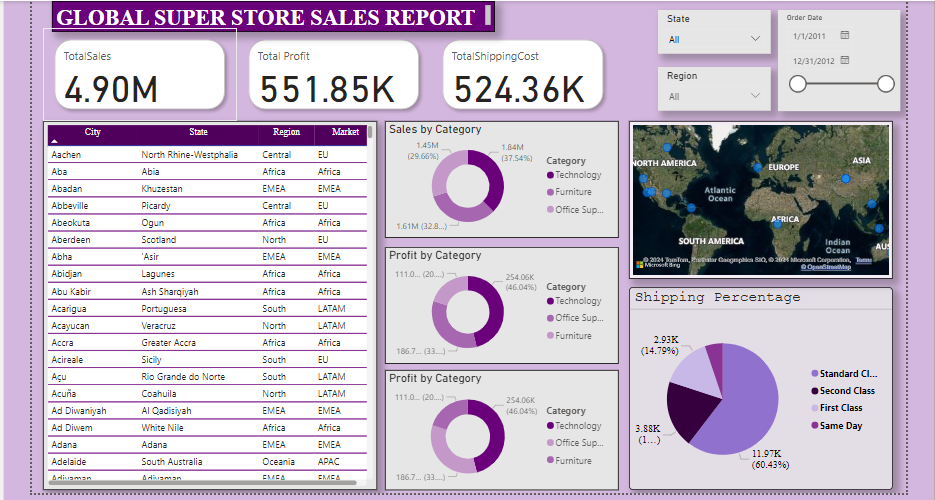

What the dashboard file says about the page in this screenshot:
{"tool":"powerbi","page":{"name":"Report (2011 - 2012)","canvas":[1280,720],"ordinal":0},"visuals":[{"type":"pieChart","title":"Shipping Percentage","fields":{"Category":["Orders.Ship Mode"],"Y":["CountNonNull(Orders.Ship Mode)"]},"box":[873.7,418.5,386.3,297.1],"z":0},{"type":"tableEx","title":"Sales Report","fields":{"Values":["Orders.City","Orders.State","Orders.Region","Orders.Market"]},"box":[16.1,175.6,488.8,540],"z":1000},{"type":"cardVisual","fields":{"Data":["Orders.TotalProfit"]},"box":[300,39.5,283.9,136.1],"z":2000},{"type":"cardVisual","fields":{"Data":["Orders.TotalShippingCost"]},"box":[583.9,39.5,269.3,136.1],"z":3000},{"type":"textbox","box":[29.3,0,648.3,45.4],"z":4000},{"type":"slicer","fields":{"Values":["Orders.State"]},"box":[916.1,13.2,165.4,64.4],"z":5000},{"type":"map","fields":{"Category":["Orders.Region"]},"box":[873.7,175.6,386.3,231.2],"z":6000},{"type":"cardVisual","fields":{"Data":["Orders.TotalSales"]},"box":[16.1,39.5,283.9,136.1],"z":7000},{"type":"donutChart","title":"Sales by Category","fields":{"Category":["Orders.Category"],"Y":["Sum(Orders.Sales)"]},"box":[516.6,175.6,342.4,171.2],"z":8000},{"type":"donutChart","title":"Profit by Category","fields":{"Category":["Orders.Category"],"Y":["Sum(Orders.Profit)"]},"box":[516.6,360,342.4,171.2],"z":9000},{"type":"donutChart","title":"Profit by Category","fields":{"Category":["Orders.Category"],"Y":["Sum(Orders.Profit)"]},"box":[516.6,540,342.4,175.6],"z":10000},{"type":"slicer","fields":{"Values":["Orders.Region"]},"box":[916.1,96.6,165.4,64.4],"z":11000},{"type":"slicer","fields":{"Values":["Orders.Order Date"]},"box":[1091.7,13.2,178.5,147.8],"z":12000}]}

Visuals, with their boxes on the page's 1280x720 design canvas (x1, y1, x2, y2). These are canvas units, not pixel positions in the 935x500 screenshot, which may show the page scaled, cropped or inside an application window:
"Shipping Percentage" pieChart: l=874, t=418, r=1260, b=716
"Sales Report" tableEx: l=16, t=176, r=505, b=716
cardVisual - Orders.TotalProfit: l=300, t=40, r=584, b=176
cardVisual - Orders.TotalShippingCost: l=584, t=40, r=853, b=176
textbox: l=29, t=0, r=678, b=45
slicer - Orders.State: l=916, t=13, r=1082, b=78
map - Orders.Region: l=874, t=176, r=1260, b=407
cardVisual - Orders.TotalSales: l=16, t=40, r=300, b=176
"Sales by Category" donutChart: l=517, t=176, r=859, b=347
"Profit by Category" donutChart: l=517, t=360, r=859, b=531
"Profit by Category" donutChart: l=517, t=540, r=859, b=716
slicer - Orders.Region: l=916, t=97, r=1082, b=161
slicer - Orders.Order Date: l=1092, t=13, r=1270, b=161
